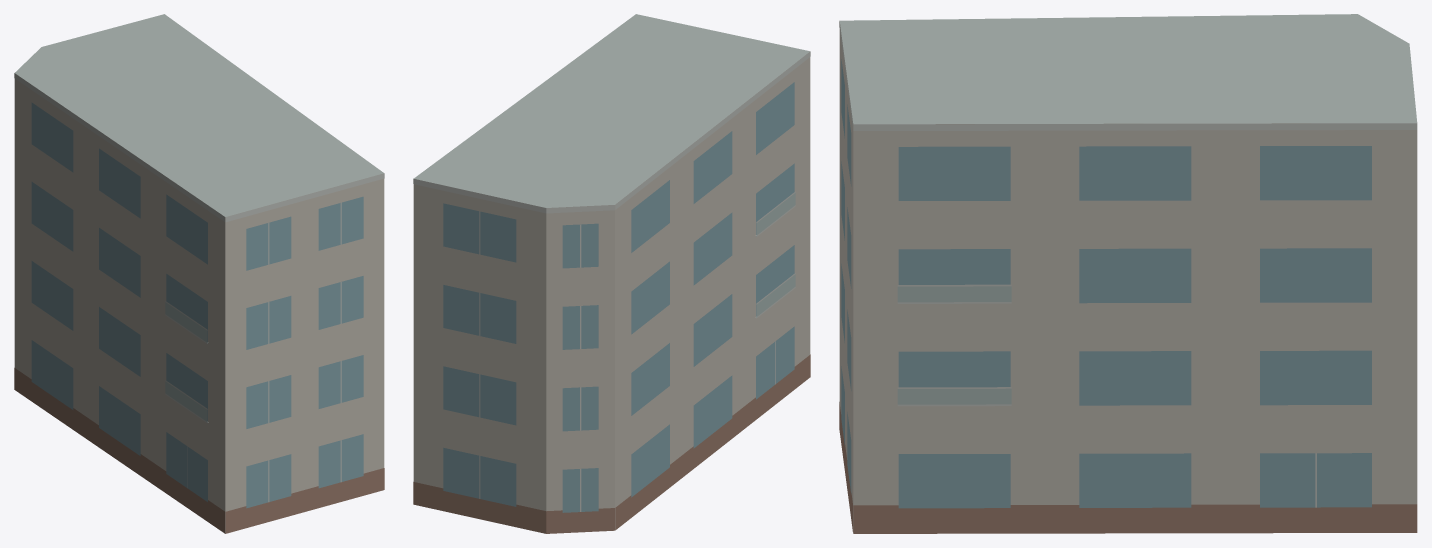
The model's file is survey-upis-32466841.glb.
The picture shows the model from 3 angles, left to right: view 1: azimuth 30°, elevation 25°; view 2: azimuth 150°, elevation 25°; view 3: azimuth 270°, elevation 25°; orthographic projection. The views are drawn at different scales.
Visible parts, largest first — view 1: survey-upis-32466841.tmp; view 2: survey-upis-32466841.tmp; view 3: survey-upis-32466841.tmp.
Boxes of the visible parts, bbox=[...] form: survey-upis-32466841.tmp: bbox=[14, 14, 384, 533]; survey-upis-32466841.tmp: bbox=[413, 14, 810, 533]; survey-upis-32466841.tmp: bbox=[839, 14, 1417, 533].
Size of the model in its own units: 8.47 by 14.6 by 18.67.
